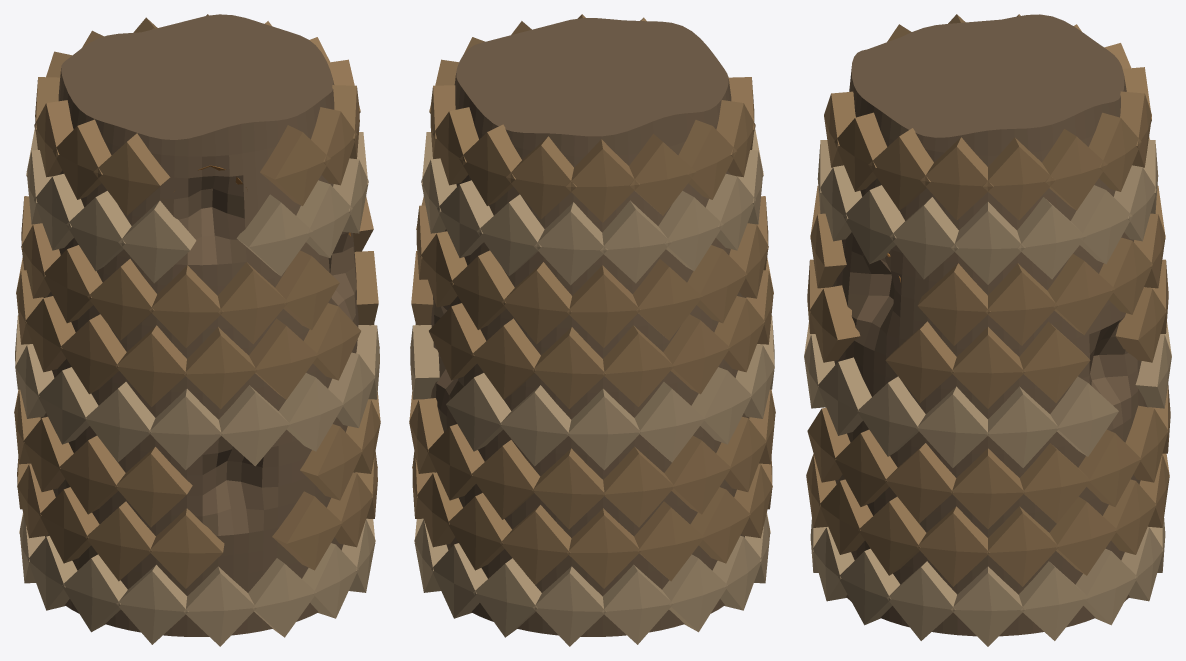
3 renders of one model, left to right at view 1: azimuth 30°, elevation 25°; view 2: azimuth 150°, elevation 25°; view 3: azimuth 270°, elevation 25°, orthographic.
Visible parts, largest first — view 1: staggered_leaf_base_armor.001, trunk_core_recessed_sites, staggered_leaf_base_armor; view 2: staggered_leaf_base_armor.001, staggered_leaf_base_armor, trunk_core_recessed_sites; view 3: staggered_leaf_base_armor.001, trunk_core_recessed_sites, staggered_leaf_base_armor.
Boxes of the visible parts, bbox=[...] form: staggered_leaf_base_armor.001: bbox=[14, 14, 380, 588]; trunk_core_recessed_sites: bbox=[40, 14, 358, 636]; staggered_leaf_base_armor: bbox=[15, 128, 379, 646]; staggered_leaf_base_armor.001: bbox=[409, 14, 775, 588]; staggered_leaf_base_armor: bbox=[410, 128, 774, 646]; trunk_core_recessed_sites: bbox=[430, 18, 749, 636]; staggered_leaf_base_armor.001: bbox=[806, 14, 1170, 586]; trunk_core_recessed_sites: bbox=[832, 14, 1147, 636]; staggered_leaf_base_armor: bbox=[804, 136, 1171, 646].
Bounding box in the file's own units: 0.8086 × 1.23 × 0.8086.
